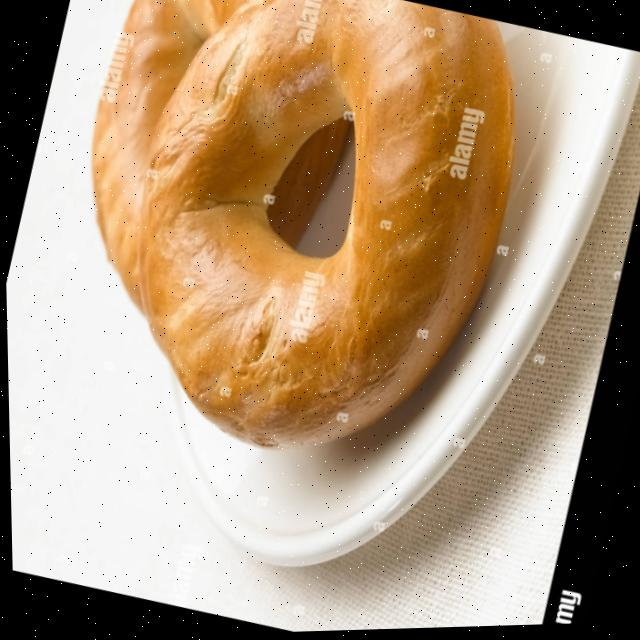Bagel: (137, 0, 512, 448)
